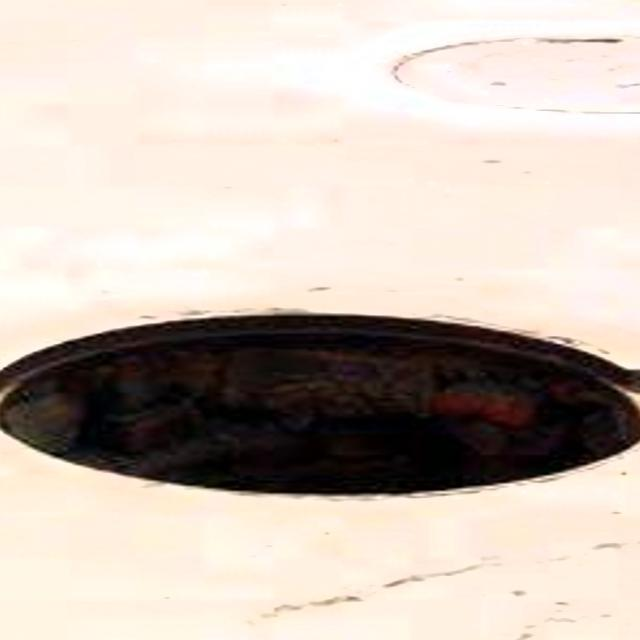lose: (0, 266, 640, 511)
